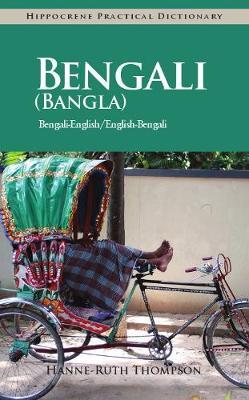Rickshaw: (2, 157, 247, 394)
